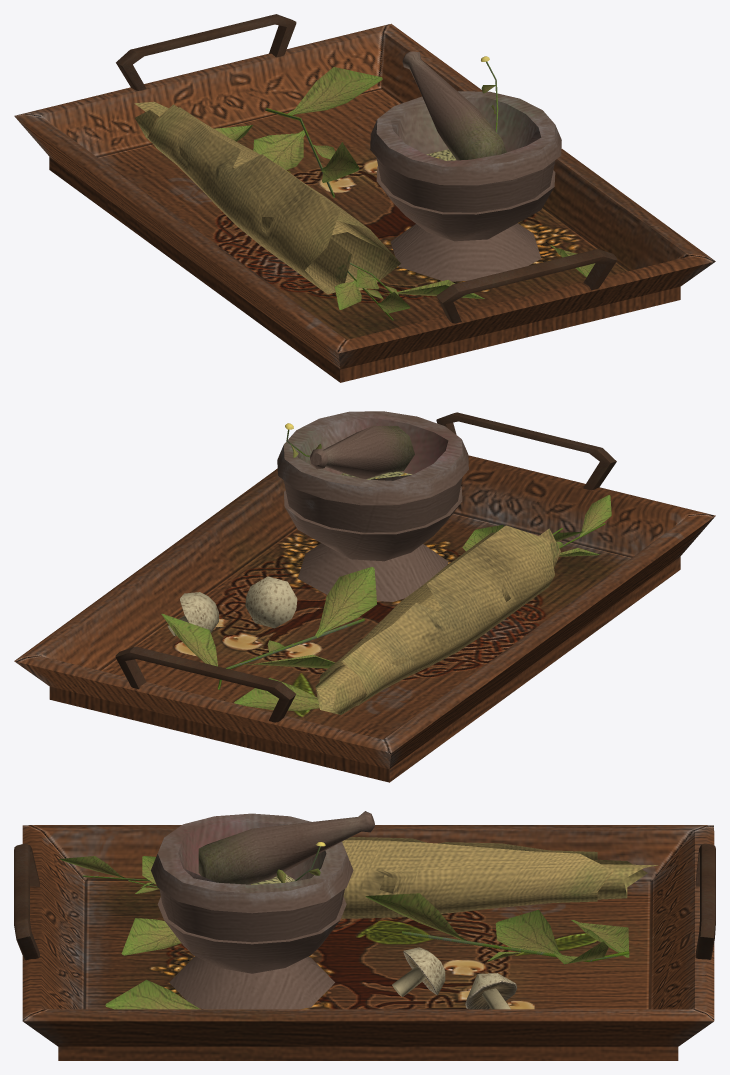
File: morter.glb
3 renders of one model, top to bottom at view 1: azimuth 30°, elevation 25°; view 2: azimuth 150°, elevation 25°; view 3: azimuth 270°, elevation 25°, orthographic. The views are drawn at different scales.
Visible parts, largest first — view 1: pCube13; view 2: pCube13; view 3: pCube13.
Boxes of the visible parts, box(x1,y1,x2,y2) form: pCube13: box(14, 14, 715, 382); pCube13: box(14, 411, 715, 782); pCube13: box(14, 811, 715, 1060).
Bounding box in the file's own units: 1.79 × 0.7842 × 2.7.
2 materials, 2 textured.
